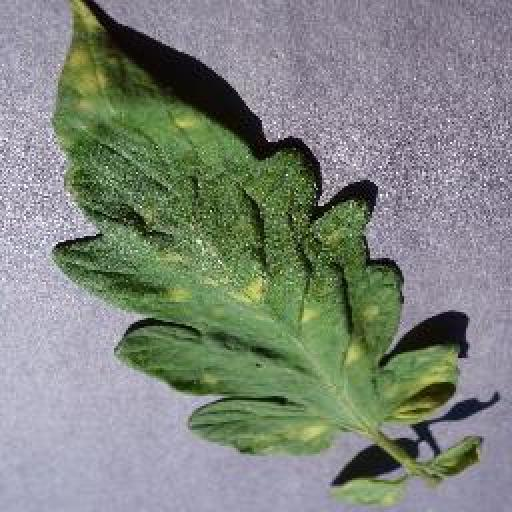Leaf Mold: (49, 0, 460, 455)
